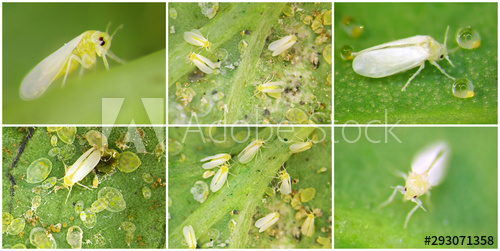Tobacco Whitefly: (18, 22, 129, 104), (345, 19, 450, 91), (57, 144, 102, 195), (185, 46, 226, 77), (267, 31, 300, 59), (185, 25, 217, 49), (257, 211, 287, 235), (239, 143, 264, 169), (180, 218, 201, 246), (201, 150, 229, 164)
